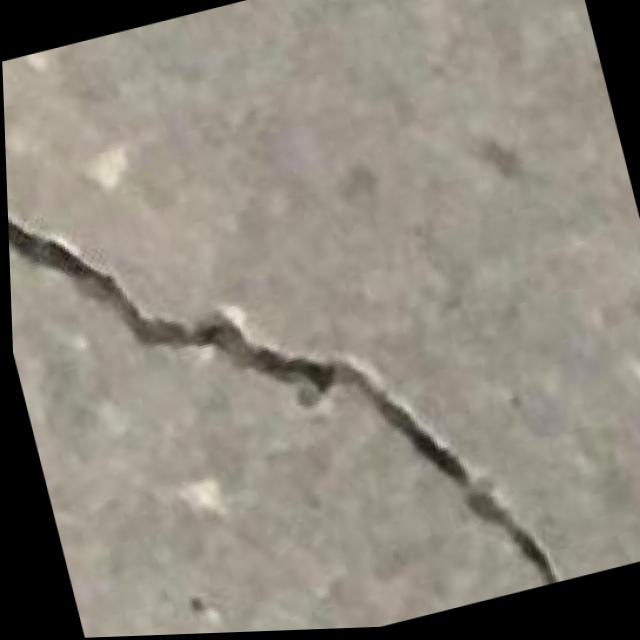Crack: (2, 49, 558, 640)
